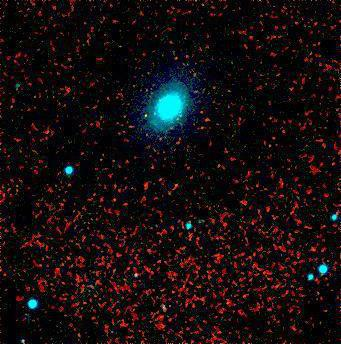star: (130, 100, 160, 130)
